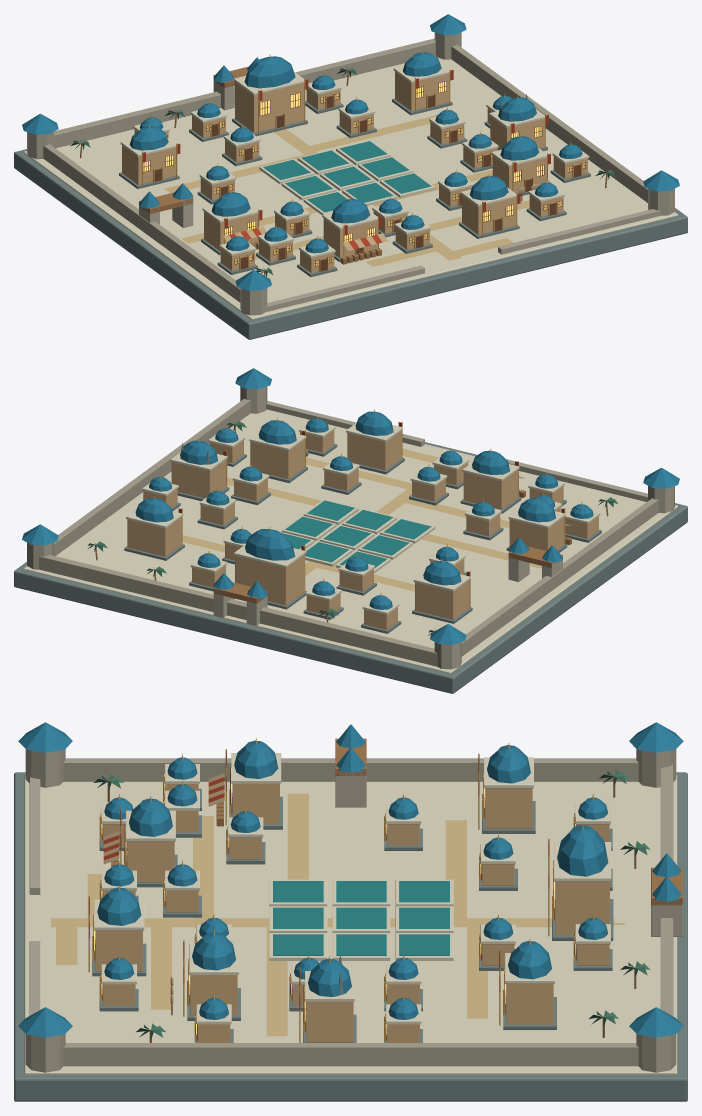
The model's file is saltmirror.glb.
3 views of the same model, one above another, from view 1: azimuth 30°, elevation 25°; view 2: azimuth 150°, elevation 25°; view 3: azimuth 270°, elevation 25° (orthographic). The views are drawn at different scales.
Visible parts, largest first — view 1: Terrain foundation geometry, Defensive perimeter geometry, Town identity landmarks geometry, adventurerGuild geometry, Streets and courtyards geometry, itemShop geometry, bookstore geometry, home geometry, inn geometry, tavern geometry, trainingGround geometry, equipmentShop geometry (+19 smaller); view 2: Terrain foundation geometry, Defensive perimeter geometry, Town identity landmarks geometry, adventurerGuild geometry, Streets and courtyards geometry, inn geometry, bookstore geometry, home geometry, itemShop geometry, trainingGround geometry, equipmentShop geometry, tavern geometry (+20 smaller); view 3: Terrain foundation geometry, Defensive perimeter geometry, Town identity landmarks geometry, Streets and courtyards geometry, adventurerGuild geometry, tavern geometry, itemShop geometry, bookstore geometry, inn geometry, equipmentShop geometry, home geometry, trainingGround geometry (+20 smaller).
Part boxes in pixels (x1,y1,x2,y2): Terrain foundation geometry: [14, 55, 687, 339]; Defensive perimeter geometry: [22, 14, 679, 315]; Town identity landmarks geometry: [259, 140, 435, 214]; adventurerGuild geometry: [232, 54, 308, 136]; Streets and courtyards geometry: [164, 114, 529, 266]; itemShop geometry: [322, 196, 387, 264]; bookstore geometry: [392, 50, 453, 115]; home geometry: [459, 174, 520, 238]; inn geometry: [119, 124, 180, 188]; tavern geometry: [201, 189, 266, 255]; trainingGround geometry: [491, 134, 550, 201]; equipmentShop geometry: [489, 94, 548, 151]; Terrain foundation geometry: [14, 409, 687, 693]; Defensive perimeter geometry: [22, 368, 679, 669]; Town identity landmarks geometry: [279, 499, 435, 573]; adventurerGuild geometry: [234, 527, 306, 609]; Streets and courtyards geometry: [182, 449, 541, 591]; inn geometry: [412, 559, 472, 623]; bookstore geometry: [124, 496, 184, 560]; home geometry: [346, 409, 404, 474]; itemShop geometry: [460, 449, 525, 513]; trainingGround geometry: [249, 418, 308, 483]; equipmentShop geometry: [170, 438, 229, 500]; tavern geometry: [506, 495, 571, 552]; Terrain foundation geometry: [14, 772, 687, 1101]; Defensive perimeter geometry: [18, 722, 683, 1072]; Town identity landmarks geometry: [269, 879, 453, 960]; Streets and courtyards geometry: [51, 793, 624, 1036]; adventurerGuild geometry: [548, 823, 613, 940]; tavern geometry: [208, 738, 282, 829]; itemShop geometry: [103, 796, 177, 887]; bookstore geometry: [499, 939, 556, 1029]; inn geometry: [478, 743, 535, 833]; equipmentShop geometry: [299, 954, 356, 1042]; home geometry: [88, 885, 146, 976]; trainingGround geometry: [170, 929, 240, 1020].
Size of the model in its own units: 69.2 by 13.24 by 64.
